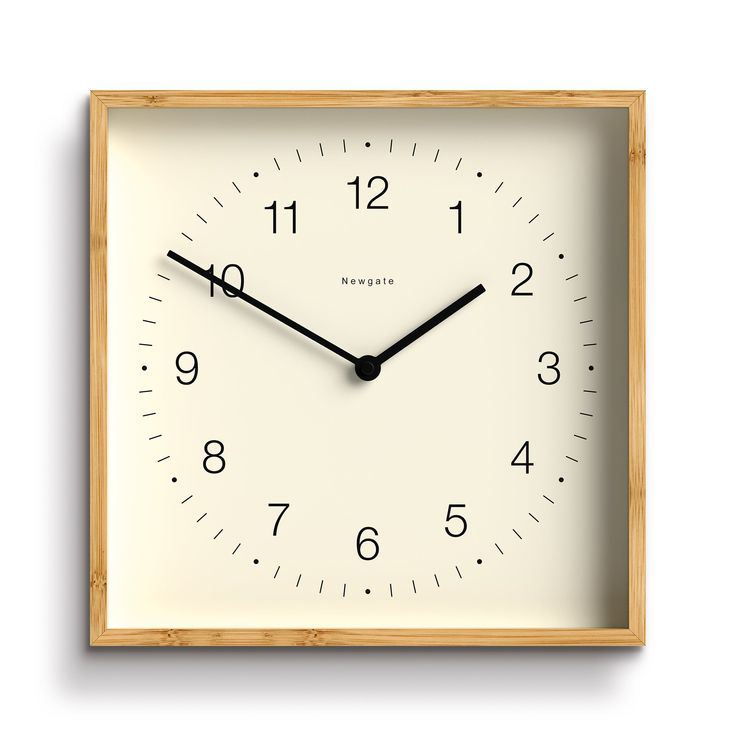clock: (28, 11, 704, 696)
